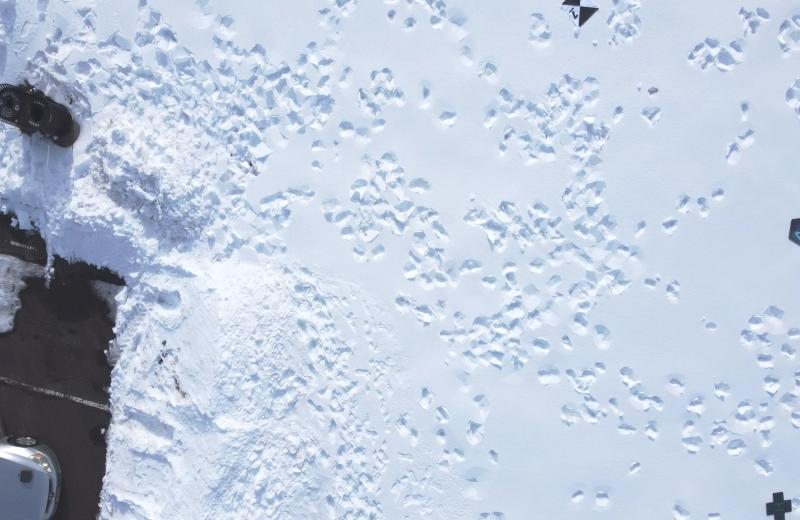Cross: (762, 489, 794, 520)
Pentagon: (787, 211, 800, 250)
